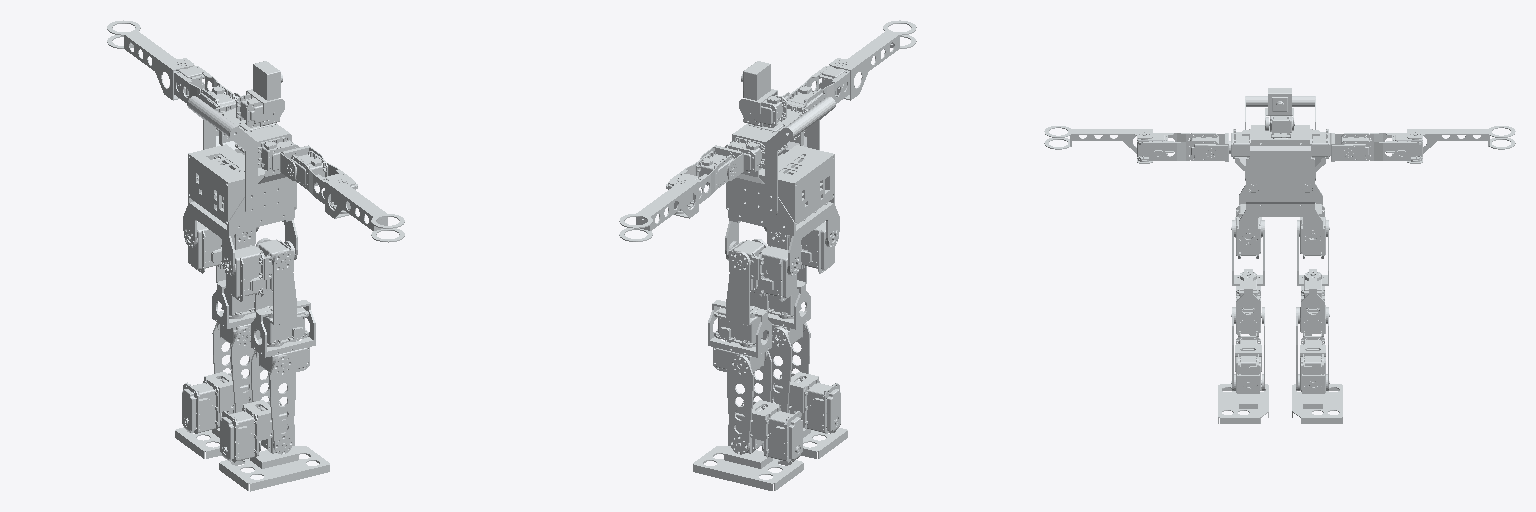
--- What the picture shows (computed from the rendered views, not written in the file) ---
Views: 3 orthographic renders of the robot side by side, from view 1: azimuth 30°, elevation 25°; view 2: azimuth 150°, elevation 25°; view 3: azimuth 270°, elevation 25°.
Model thmos_urdf with 26 links and 25 joints (20 revolute, 5 fixed), rooted at body, posed every joint at zero.
Links seen in each view (by area): view 1: body, R_leg_5_link, R_leg_2_link, L_leg_5_link, R_leg_1_link, R_leg_4_link, r_sole, R_arm_3_link, R_leg_3_link, L_arm_3_link, L_leg_4_link, R_arm_2_link (+9 smaller); view 2: body, L_leg_5_link, L_leg_2_link, R_leg_5_link, L_leg_4_link, L_leg_1_link, l_sole, L_arm_3_link, L_leg_3_link, R_arm_3_link, R_leg_4_link, R_arm_2_link (+8 smaller); view 3: body, L_arm_2_link, R_arm_2_link, R_leg_5_link, L_leg_5_link, L_arm_3_link, R_arm_3_link, r_sole, l_sole, R_leg_3_link, L_leg_3_link, head_link (+4 smaller).
Link boxes in pixels (<box>): body: <box>183,96,299,275</box>; R_leg_5_link: <box>220,400,294,462</box>; R_leg_2_link: <box>255,238,308,345</box>; L_leg_5_link: <box>182,372,249,433</box>; R_leg_1_link: <box>225,239,295,301</box>; R_leg_4_link: <box>251,350,295,454</box>; r_sole: <box>219,446,329,491</box>; R_arm_3_link: <box>325,176,404,242</box>; R_leg_3_link: <box>251,300,315,372</box>; L_arm_3_link: <box>107,20,193,100</box>; L_leg_4_link: <box>212,323,254,412</box>; R_arm_2_link: <box>289,151,357,210</box>; body: <box>722,97,839,275</box>; L_leg_5_link: <box>728,400,802,462</box>; L_leg_2_link: <box>714,239,767,345</box>; R_leg_5_link: <box>774,372,840,433</box>; L_leg_4_link: <box>727,351,771,454</box>; L_leg_1_link: <box>729,240,797,301</box>; l_sole: <box>693,446,803,490</box>; L_arm_3_link: <box>619,176,698,241</box>; L_leg_3_link: <box>708,300,771,372</box>; R_arm_3_link: <box>829,20,916,100</box>; R_leg_4_link: <box>768,323,810,412</box>; R_arm_2_link: <box>787,62,854,107</box>; body: <box>1229,96,1330,243</box>; L_arm_2_link: <box>1341,133,1422,160</box>; R_arm_2_link: <box>1137,133,1218,160</box>; R_leg_5_link: <box>1231,336,1261,393</box>; L_leg_5_link: <box>1300,336,1329,393</box>; L_arm_3_link: <box>1407,126,1515,163</box>; R_arm_3_link: <box>1044,126,1152,163</box>; r_sole: <box>1218,384,1268,423</box>; l_sole: <box>1292,384,1342,423</box>; R_leg_3_link: <box>1231,269,1261,336</box>; L_leg_3_link: <box>1300,269,1329,336</box>; head_link: <box>1265,88,1293,130</box>.
Bounding box of the posed robot: 0.1405 × 0.7664 × 0.5784 m (x, y, z).
21 mesh visuals loaded from 21 distinct referenced files (21 OBJ).

robot.urdf — thmos_urdf:
<?xml version="1.0" encoding="utf-8"?>
<robot name="thmos_urdf" version="1.0">

  <link name="body">
    <inertial>
      <origin xyz="0.063712 -0.00099792 0.019122" rpy="0.0 0.0 0.0"/>
      <mass value="1.3288"/>
      <inertia ixx="0.0012431" ixy="1.3371e-06" ixz="-1.2389e-05" iyy="0.00066197" iyz="-1.1205e-06" izz="0.0010861"/>
    </inertial>
    <visual>
      <origin xyz="0.0 0.0 0.0" rpy="0.0 0.0 0.0"/>
      <geometry>
        <mesh filename="../meshes/body.obj"/>
      </geometry>
      <material name="">
        <color rgba="0.89804 0.91765 0.92941 1.0"/>
      </material>
    </visual>
    <collision>
      <origin xyz="0.05384999848902248 -0.0012000016868114506 0.0035215429961681062" rpy="6.123233995736766e-17 1.3445140975416614e-14 -6.123233995736683e-17"/>
      <geometry>
        <box size="0.10769999846816107 0.1113000014424324 0.129935028374194"/>
      </geometry>
    </collision>
  </link>

  <link name="imu_frame">
    <inertial>
      <origin xyz="0.0 0.0 0.0" rpy="0.0 0.0 0.0"/>
      <mass value="1e-09"/>
      <inertia ixx="0.0" ixy="0.0" ixz="0.0" iyy="0.0" iyz="0.0" izz="0.0"/>
    </inertial>
  </link>
  <joint name="body_to_imu" type="fixed">
    <origin xyz="0.03 0.0 0.0" rpy="0.0 0.0 0.0"/>
    <axis xyz="0.0 0.0 1.0"/>
    <parent link="body"/>
    <child link="imu_frame"/>
  </joint>
  <link name="neck_link">
    <inertial>
      <origin xyz="0.000374754017638169 0.00792661238395012 0.0164902287503008" rpy="0.0 0.0 0.0"/>
      <mass value="0.124460960004064"/>
      <inertia ixx="2.8805042758389e-05" ixy="1.06141323333388e-06" ixz="9.02985231695641e-11" iyy="2.19026103636437e-05" iyz="4.01738564732065e-09" izz="3.53155714762973e-05"/>
    </inertial>
    <visual>
      <origin xyz="0.0 0.0 0.0" rpy="0.0 0.0 0.0"/>
      <geometry>
        <mesh filename="../meshes/neck.obj"/>
      </geometry>
      <material name="">
<color rgba="0.898039215686275 0.917647058823529 0.929411764705882 1.0"/>
      </material>
    </visual>
    <collision>
      <origin xyz="0.001675000414252283 0.010300001595169302 0.016450000111944973" rpy="1.5707963267948966 -1.5707963267948966 0.0"/>
      <geometry>
        <box size="0.01710000007413327 0.0118500006198883 0.01060000251978636"/>
      </geometry>
    </collision>
  </link>
  <joint name="neck" type="revolute">
    <origin xyz="0.0878 -0.0012 0.085854" rpy="0.0 0.0 1.5708"/>
    <axis xyz="0.0 0.0 1.0"/>
    <parent link="body"/>
    <child link="neck_link"/>
    <limit effort="3.0" lower="-3.14" upper="3.14" velocity="6.0"/>
    <dynamics damping="0.3" friction="0.83"/>
  </joint>
  <link name="head_link">
    <inertial>
      <origin xyz="0.00105902022003895 0.0355664089714035 -0.0241900224958814" rpy="0.0 0.0 0.0"/>
      <mass value="0.114036124076544"/>
      <inertia ixx="3.82925395568687e-05" ixy="-1.03991053654543e-06" ixz="-3.641539852221e-10" iyy="2.26332447272469e-05" iyz="-9.47293360670022e-11" izz="2.74630698086273e-05"/>
    </inertial>
    <visual>
      <origin xyz="0.0 0.0 0.0" rpy="0.0 0.0 0.0"/>
      <geometry>
        <mesh filename="../meshes/head.obj"/>
      </geometry>
      <material name="">
        <color rgba="0.898039215686275 0.917647058823529 0.929411764705882 1.0"/>
      </material>
    </visual>
    <collision>
      <origin xyz="0.021949610881768685 0.04505123227280408 -0.02424999896287918" rpy="1.5707963267948966 -0.0 2.944197080307375"/>
      <geometry>
        <box size="0.03714315125418157 0.04849999748468399 0.03189390843605308"/>
      </geometry>
    </collision>
  </link>
  <joint name="head" type="revolute">
    <origin xyz="-0.0265 -0.003 0.0172" rpy="1.5708 0.0 -1.5708"/>
    <axis xyz="0.0 0.0 1.0"/>
    <parent link="neck_link"/>
    <child link="head_link"/>
    <limit effort="3.0" lower="-3.14" upper="3.14" velocity="6.0"/>
    <dynamics damping="0.3" friction="0.83"/>
  </joint>
  <link name="camera">
    <inertial>
      <origin xyz="0.0 0.0 0.0" rpy="0.0 0.0 0.0"/>
      <mass value="1e-09"/>
      <inertia ixx="0.0" ixy="0.0" ixz="0.0" iyy="0.0" iyz="0.0" izz="0.0"/>
    </inertial>
  </link>
  <joint name="camera_frame" type="fixed">
    <origin xyz="0.0237 0.0395 -0.025" rpy="-1.5708 0.0 0.0"/>
    <axis xyz="0.0 0.0 0.0"/>
    <parent link="head_link"/>
    <child link="camera"/>
  </joint>
  <link name="camera_optical_frame">
    <inertial>
      <origin xyz="0.0 0.0 0.0" rpy="0.0 0.0 0.0"/>
      <mass value="1e-09"/>
      <inertia ixx="0.0" ixy="0.0" ixz="0.0" iyy="0.0" iyz="0.0" izz="0.0"/>
    </inertial>
  </link>
  <joint name="camera_optical_frame_frame" type="fixed">
    <origin xyz="0.0232 0.0395 -0.025" rpy="3.14159 -1.5708 0.0"/>
    <axis xyz="0.0 0.0 0.0"/>
    <parent link="head_link"/>
    <child link="camera_optical_frame"/>
  </joint>
  <link name="L_arm_1_link">
    <inertial>
      <origin xyz="-0.00270348856091474 -2.98303048928972e-14 0.00912222923452145" rpy="0.0 0.0 0.0"/>
      <mass value="0.0181607936880923"/>
      <inertia ixx="4.12173986238463e-06" ixy="-3.2877850320291e-21" ixz="-1.84209426151666e-21" iyy="7.89270004328203e-06" iyz="-2.93547863189118e-21" izz="6.9509203458564e-06"/>
    </inertial>
    <visual>
      <origin xyz="0.0 0.0 0.0" rpy="0.0 0.0 0.0"/>
      <geometry>
        <mesh filename="../meshes/L_arm_1.obj"/>
      </geometry>
      <material name="">
        <color rgba="0.898039215686275 0.917647058823529 0.929411764705882 1.0"/>
      </material>
    </visual>
    <collision>
      <origin xyz="-9.73594148203842e-19 0.0 0.01589999906718731" rpy="1.5707963267948968 -0.0 -1.5707963267948966"/>
      <geometry>
        <box size="0.03200000151991845 0.04149999842047691 0.046199999749660485"/>
      </geometry>
    </collision>
  </link>
  <joint name="L_arm_1" type="revolute">
    <origin xyz="0.0878 0.08445 0.059554" rpy="1.5708 0.0 -3.1416"/>
    <axis xyz="0.0 0.0 1.0"/>
    <parent link="body"/>
    <child link="L_arm_1_link"/>
    <limit effort="3.0" lower="-3.14" upper="3.14" velocity="6.0"/>
    <dynamics damping="0.3" friction="0.83"/>
  </joint>
  <link name="L_arm_2_link">
    <inertial>
      <origin xyz="-0.0555336258522437 0.000228650195428066 -0.0224177788260872" rpy="0.0 0.0 0.0"/>
      <mass value="0.257261302812499"/>
      <inertia ixx="4.50171126863418e-05" ixy="1.05764403250118e-06" ixz="-1.05764403250123e-06" iyy="7.00809162267162e-05" iyz="1.86757292836393e-10" izz="7.25001715326831e-05"/>
    </inertial>
    <visual>
      <origin xyz="0.0 0.0 0.0" rpy="0.0 0.0 0.0"/>
      <geometry>
        <mesh filename="../meshes/L_arm_2.obj"/>
      </geometry>
      <material name="">
        <color rgba="0.898039215686275 0.917647058823529 0.929411764705882 1.0"/>
      </material>
    </visual>
    <collision>
      <origin xyz="-0.054543880996390105 0.0017612372696255338 -0.0213372207657779" rpy="1.5627670809683334 -0.015294812101342672 1.5709191304515608"/>
      <geometry>
        <box size="0.02252645601540947 0.023383295844647285 0.023377372846498"/>
      </geometry>
    </collision>
  </link>
  <joint name="L_arm_2" type="revolute">
    <origin xyz="0.0237 0.0 0.02425" rpy="0.0 1.5708 0.0"/>
    <axis xyz="0.0 0.0 1.0"/>
    <parent link="L_arm_1_link"/>
    <child link="L_arm_2_link"/>
    <limit effort="3.0" lower="-3.14" upper="3.14" velocity="6.0"/>
    <dynamics damping="0.3" friction="0.83"/>
  </joint>
  <link name="L_arm_3_link">
    <inertial>
      <origin xyz="0.0610691517699158 0.0132650328153034 -0.0146476390287438" rpy="0.0 0.0 0.0"/>
      <mass value="0.0391883327866054"/>
      <inertia ixx="1.1531973600899e-05" ixy="-1.47448079661083e-06" ixz="-7.52413264450704e-06" iyy="6.36512327134345e-05" iyz="2.87923177830407e-08" izz="5.98055732184809e-05"/>
    </inertial>
    <visual>
      <origin xyz="0.0 0.0 0.0" rpy="0.0 0.0 0.0"/>
      <geometry>
        <mesh filename="../meshes/L_arm_3.obj"/>
      </geometry>
      <material name="">
        <color rgba="0.898039215686275 0.917647058823529 0.929411764705882 1.0"/>
      </material>
    </visual>
    <collision>
      <origin xyz="0.0747740109964431 0.011430920623277179 -0.023599999549333006" rpy="1.5707963267948966 -0.0 1.584225802435539"/>
      <geometry>
        <box size="0.0454910148430189 0.045999999041669085 0.17605944277074478"/>
      </geometry>
    </collision>
  </link>
  <joint name="L_arm_3" type="revolute">
    <origin xyz="-0.1091 0.0227 -0.0226" rpy="1.5708 0.0 -3.1416"/>
    <axis xyz="0.0 0.0 -1.0"/>
    <parent link="L_arm_2_link"/>
    <child link="L_arm_3_link"/>
    <limit effort="3.0" lower="-3.14" upper="3.14" velocity="6.0"/>
    <dynamics damping="0.3" friction="0.83"/>
  </joint>
  <link name="R_arm_1_link">
    <inertial>
      <origin xyz="-0.00270348856095659 -2.15036322082085e-14 -0.0118722292345103" rpy="0.0 0.0 0.0"/>
      <mass value="0.0181607936880923"/>
      <inertia ixx="4.12173986238461e-06" ixy="-6.73547515457905e-20" ixz="-3.34992478122145e-21" iyy="7.892700043282e-06" iyz="1.44907271888797e-21" izz="6.95092034585637e-06"/>
    </inertial>
    <visual>
      <origin xyz="0.0 0.0 0.0" rpy="0.0 0.0 0.0"/>
      <geometry>
        <mesh filename="../meshes/R_arm_1.obj"/>
      </geometry>
      <material name="">
        <color rgba="0.898039215686275 0.917647058823529 0.929411764705882 1.0"/>
      </material>
    </visual>
    <collision>
      <origin xyz="-2.327463805624001e-18 0.0 -0.018650000100024045" rpy="1.5707963267948968 -0.0 -1.5707963267948966"/>
      <geometry>
        <box size="0.032000001519918435 0.041500000050291426 0.046199999749660485"/>
      </geometry>
    </collision>
  </link>
  <joint name="R_arm_1" type="revolute">
    <origin xyz="0.0878 -0.08685 0.059554" rpy="1.5708 0.0 3.1416"/>
    <axis xyz="0.0 0.0 -1.0"/>
    <parent link="body"/>
    <child link="R_arm_1_link"/>
    <limit effort="3.0" lower="-3.14" upper="3.14" velocity="6.0"/>
    <dynamics damping="0.3" friction="0.83"/>
  </joint>
  <link name="R_arm_2_link">
    <inertial>
      <origin xyz="0.0555336256974389 0.000228648579194128 -0.0224177804428706" rpy="0.0 0.0 0.0"/>
      <mass value="0.257261343297452"/>
      <inertia ixx="4.5017126042755e-05" ixy="-1.05764222141383e-06" ixz="1.05764222141381e-06" iyy="7.00809285626232e-05" iyz="1.84550114679737e-10" izz="7.250018386859e-05"/>
    </inertial>
    <visual>
      <origin xyz="0.0 0.0 0.0" rpy="0.0 0.0 0.0"/>
      <geometry>
        <mesh filename="../meshes/R_arm_2.obj"/>
      </geometry>
      <material name="">
<color rgba="0.898039215686275 0.917647058823529 0.929411764705882 1.0"/>
      </material>
    </visual>
    <collision>
      <origin xyz="0.05459645903898113 0.00239333590524819 -0.021207436442534276" rpy="2.464064794050204 1.5638561054401396 2.452604630324749"/>
      <geometry>
        <box size="0.02210135916716282 0.022319626431698204 0.02365911610615555"/>
      </geometry>
    </collision>
  </link>
  <joint name="R_arm_2" type="revolute">
    <origin xyz="0.0237 0.0 -0.027" rpy="0.0 1.5708 0.0"/>
    <axis xyz="0.0 0.0 1.0"/>
    <parent link="R_arm_1_link"/>
    <child link="R_arm_2_link"/>
    <limit effort="3.0" lower="-3.14" upper="3.14" velocity="6.0"/>
    <dynamics damping="0.3" friction="0.83"/>
  </joint>
  <link name="R_arm_3_link">
    <inertial>
      <origin xyz="-0.0610691517699113 0.0132650328152753 -0.0146476390287803" rpy="0.0 0.0 0.0"/>
      <mass value="0.0391883327866054"/>
      <inertia ixx="1.15319736008989e-05" ixy="1.47448079661004e-06" ixz="7.52413264450704e-06" iyy="6.36512327134348e-05" iyz="2.87923177831431e-08" izz="5.98055732184812e-05"/>
    </inertial>
    <visual>
      <origin xyz="0.0 0.0 0.0" rpy="0.0 0.0 0.0"/>
      <geometry>
        <mesh filename="../meshes/R_arm_3.obj"/>
      </geometry>
      <material name="">
        <color rgba="0.898039215686275 0.917647058823529 0.929411764705882 1.0"/>
      </material>
    </visual>
    <collision>
      <origin xyz="-0.0747740109964431 0.011430920623277179 -0.023599999549333006" rpy="1.5707963267948966 -0.0 1.5573668511542542"/>
      <geometry>
        <box size="0.045491014843018894 0.04599999904166909 0.17605944277074478"/>
      </geometry>
    </collision>
  </link>
  <joint name="R_arm_3" type="revolute">
    <origin xyz="0.1091 0.0227 -0.0226" rpy="1.5708 0.0 -3.1416"/>
    <axis xyz="0.0 0.0 -1.0"/>
    <parent link="R_arm_2_link"/>
    <child link="R_arm_3_link"/>
    <limit effort="3.0" lower="-3.14" upper="3.14" velocity="6.0"/>
    <dynamics damping="0.3" friction="0.83"/>
  </joint>
  <link name="R_leg_1_link">
    <inertial>
      <origin xyz="0.000242896794929587 -0.0148810546825795 -0.0515497640478449" rpy="0.0 0.0 0.0"/>
      <mass value="0.451493328507052"/>
      <inertia ixx="0.000180898932244134" ixy="-2.38369037516758e-06" ixz="6.24170041698943e-09" iyy="0.000109860138568046" iyz="-2.84619940693069e-06" izz="0.000172275371244265"/>
    </inertial>
    <visual>
      <origin xyz="0.0 0.0 0.0" rpy="0.0 0.0 0.0"/>
      <geometry>
        <mesh filename="../meshes/R_leg_1.obj"/>
      </geometry>
      <material name="">
        <color rgba="0.898039215686275 0.917647058823529 0.929411764705882 1.0"/>
      </material>
    </visual>
    <collision>
      <origin xyz="0.003100000321865076 -0.01805000007152557 -0.02045000099539752" rpy="6.123233995736766e-17 -1.2246467991473532e-16 -6.123233995736767e-17"/>
      <geometry>
        <box size="0.03000000074505806 0.01509999930858612 0.01590000165700921"/>
      </geometry>
    </collision>
  </link>
  <joint name="R_leg_1" type="revolute">
    <origin xyz="-0.0018 -0.05385 -0.093946" rpy="1.5708 0.0 -1.5708"/>
    <axis xyz="0.0 0.0 1.0"/>
    <parent link="body"/>
    <child link="R_leg_1_link"/>
    <limit effort="7.0" lower="-3.14" upper="3.14" velocity="8.0"/>
    <dynamics damping="0.66" friction="1.42"/>
  </joint>
  <link name="R_leg_2_link">
    <inertial>
      <origin xyz="0.0122194621517914 -0.094313655848584 -0.0282436770621193" rpy="0.0 0.0 0.0"/>
      <mass value="0.255869549056094"/>
      <inertia ixx="9.82695608187641e-05" ixy="4.67521713434423e-06" ixz="-1.21264879671056e-10" iyy="7.3171187256599e-05" iyz="2.17873962694984e-09" izz="0.000138459962189222"/>
    </inertial>
    <visual>
      <origin xyz="0.0 0.0 0.0" rpy="0.0 0.0 0.0"/>
      <geometry>
        <mesh filename="../meshes/R_leg_2.obj"/>
      </geometry>
      <material name="">
        <color rgba="0.898039215686275 0.917647058823529 0.929411764705882 1.0"/>
      </material>
    </visual>
    <collision>
      <origin xyz="0.016046630620604328 -0.058285391411157864 -0.02805000019725412" rpy="-1.6001995699219158 1.5707963267948966 0.0"/>
      <geometry>
        <box size="0.05310000036843121 0.03507315459005164 0.04545180379959868"/>
      </geometry>
    </collision>
  </link>
  <joint name="R_leg_2" type="revolute">
    <origin xyz="0.0281 0.0002095 -0.0739" rpy="0.0 1.5708 0.0"/>
    <axis xyz="0.0 0.0 1.0"/>
    <parent link="R_leg_1_link"/>
    <child link="R_leg_2_link"/>
    <limit effort="7.0" lower="-3.14" upper="3.14" velocity="8.0"/>
    <dynamics damping="0.66" friction="1.42"/>
  </joint>
  <link name="R_leg_3_link">
    <inertial>
      <origin xyz="0.000341018557630739 -0.0148870721262969 0.0660225553835301" rpy="0.0 0.0 0.0"/>
      <mass value="0.258989867994287"/>
      <inertia ixx="0.000135250232483748" ixy="-2.37925510522261e-06" ixz="1.20373969145859e-12" iyy="6.84711260250314e-05" iyz="3.73535413122895e-07" izz="0.00014407344617747"/>
    </inertial>
    <visual>
      <origin xyz="0.0 0.0 0.0" rpy="0.0 0.0 0.0"/>
      <geometry>
        <mesh filename="../meshes/R_leg_3.obj"/>
      </geometry>
      <material name="">
        <color rgba="0.898039215686275 0.917647058823529 0.929411764705882 1.0"/>
      </material>
    </visual>
    <collision>
      <origin xyz="0.0030000004917383164 -0.015499999746680263 0.0481500014429912" rpy="3.141592653589793 -0.0 3.141592653589793"/>
      <geometry>
        <box size="0.02400000074505809 0.05599999991059307 0.04330000285990536"/>
      </geometry>
    </collision>
  </link>
  <joint name="R_leg_3" type="revolute">
    <origin xyz="0.0 -0.0814 -0.028" rpy="1.5708 -1.5708 0.0"/>
    <axis xyz="0.0 0.0 -1.0"/>
    <parent link="R_leg_2_link"/>
    <child link="R_leg_3_link"/>
    <limit effort="7.0" lower="-3.14" upper="3.14" velocity="8.0"/>
    <dynamics damping="0.66" friction="1.42"/>
  </joint>
  <link name="R_leg_4_link">
    <inertial>
      <origin xyz="0.000633785907184686 -0.0558181596705163 -0.0303382676064725" rpy="0.0 0.0 0.0"/>
      <mass value="0.0679066960076005"/>
      <inertia ixx="9.59296971630492e-05" ixy="9.94737782293033e-07" ixz="3.79898249863386e-11" iyy="8.33343928808516e-06" iyz="-3.34580192882797e-09" izz="0.000104160518535864"/>
    </inertial>
    <visual>
      <origin xyz="0.0 0.0 0.0" rpy="0.0 0.0 0.0"/>
      <geometry>
        <mesh filename="../meshes/R_leg_4.obj"/>
      </geometry>
      <material name="">
        <color rgba="0.898039215686275 0.917647058823529 0.929411764705882 1.0"/>
      </material>
    </visual>
    <collision>
      <origin xyz="-0.0 -0.04 -0.045" rpy="0 0 0"/>
      <geometry>
        <box size="0.02 0.08 0.005"/>
      </geometry>
    </collision>
  </link>
  <joint name="R_leg_4" type="revolute">
    <origin xyz="0.028 0.0 0.0747" rpy="-1.5708 0.0 -1.5708"/>
    <axis xyz="0.0 0.0 1.0"/>
    <parent link="R_leg_3_link"/>
    <child link="R_leg_4_link"/>
    <limit effort="7.0" lower="-3.14" upper="0.8" velocity="8.0"/>
    <dynamics damping="0.66" friction="1.42"/>
  </joint>
  <link name="R_leg_5_link">
    <inertial>
      <origin xyz="-0.0282617418943693 0.0165730398465845 -0.0277523989281278" rpy="0.0 0.0 0.0"/>
      <mass value="0.46512114910712"/>
      <inertia ixx="0.000183362451913054" ixy="2.4241321870988e-06" ixz="1.44282223201968e-08" iyy="0.000120053010159165" iyz="2.38710633149706e-06" izz="0.00018563013019653"/>
    </inertial>
    <visual>
      <origin xyz="0.0 0.0 0.0" rpy="0.0 0.0 0.0"/>
      <geometry>
        <mesh filename="../meshes/R_leg_5.obj"/>
      </geometry>
      <material name="">
        <color rgba="0.898039215686275 0.917647058823529 0.929411764705882 1.0"/>
      </material>
    </visual>
    <collision>
      <origin xyz="-0.02 0.0 -0.027" rpy="0.0 0.0 0.0"/>
      <geometry>
        <box size="0.08200000151991844 0.035 0.025"/>
      </geometry>
    </collision>
  </link>
  <joint name="R_leg_5" type="revolute">
    <origin xyz="0.0013624 -0.11999 0.0" rpy="0.0 0.0 0.0"/>
    <axis xyz="0.0 0.0 1.0"/>
    <parent link="R_leg_4_link"/>
    <child link="R_leg_5_link"/>
    <limit effort="7.0" lower="-1.57" upper="1.57" velocity="8.0"/>
    <dynamics damping="0.66" friction="1.42"/>
  </joint>
  <link name="R_leg_6_link">
    <inertial>
      <origin xyz="-7.37902794423206e-13 -0.0185042027856624 0.0278363803698617" rpy="0.0 0.0 0.0"/>
      <mass value="0.0377536385423544"/>
      <inertia ixx="2.3934318153837e-05" ixy="3.46864511941908e-21" ixz="-5.66337063104483e-20" iyy="2.072219654816e-05" iyz="-3.59341385123066e-07" izz="9.35507291262461e-06"/>
    </inertial>
    <visual>
      <origin xyz="2.8571235090393715e-18 -0.029 0.02419999986886978" rpy="3.141592653589793 -0.0 -6.123233995736766e-17"/>
      <geometry>
        <box size="0.03200000151991844 0.01 0.057999998331069946"/>
      </geometry>
      <material name="">
        <color rgba="0.898039215686275 0.917647058823529 0.929411764705882 1.0"/>
      </material>
    </visual>
    <collision>
      <origin xyz="2.8571235090393715e-18 -0.029 0.02419999986886978" rpy="3.141592653589793 -0.0 -6.123233995736766e-17"/>
      <geometry>
        <box size="0.03200000151991844 0.01 0.057999998331069946"/>
      </geometry>
    </collision>
  </link>
<joint name="R_leg_6" type="revolute">
    <origin xyz="-0.0235 0.0 -0.0279" rpy="0.0 1.5708 0.0"/>
    <axis xyz="0.0 0.0 1.0"/>
    <parent link="R_leg_5_link"/>
    <child link="R_leg_6_link"/>
    <limit effort="7.0" lower="-1.57" upper="1.57" velocity="8.0"/>
    <dynamics damping="0.66" friction="1.42"/>
  </joint>
  <link name="r_sole">
    <inertial>
      <origin xyz="-0.00533307371632902 -0.00839837846157496 0.00906222619819685" rpy="0.0 0.0 0.0"/>
      <mass value="0.0514108605648368"/>
      <inertia ixx="3.96695498840741e-05" ixy="2.92964387704441e-06" ixz="-3.21388348534922e-07" iyy="8.16196946411252e-05" iyz="-2.16470053766801e-07" izz="0.000120318842861491"/>
    </inertial>
    <visual>
      <origin xyz="0.0 0.0 0.0" rpy="0.0 0.0 0.0"/>
      <geometry>
        <mesh filename="../meshes/r_sole.obj"/>
      </geometry>
      <material name="">
        <color rgba="0.898039215686275 0.917647058823529 0.929411764705882 1.0"/>
      </material>
    </visual>
    <collision>
      <origin xyz="-0.0040000006556510865 -0.007500000298023223 0.005749999999934502" rpy="1.2246467991473532e-16 1.5707963267948966 0.0"/>
      <geometry>
        <box size="0.011500000044834485 0.08299999684095384 0.12999999523162842"/>
      </geometry>
    </collision>
  </link>
  <joint name="r_sole" type="fixed">
    <origin xyz="0.0 -0.0455 0.0242" rpy="-1.5708 -1.5708 0.0"/>
    <axis xyz="0.0 0.0 1.0"/>
    <parent link="R_leg_6_link"/>
    <child link="r_sole"/>
  </joint>
  <link name="L_leg_1_link">
    <inertial>
      <origin xyz="-0.000245362191428788 -0.0150511473487731 -0.0510132876308485" rpy="0.0 0.0 0.0"/>
      <mass value="0.446391012900485"/>
      <inertia ixx="0.000180559948679216" ixy="2.37481983527781e-06" ixz="6.24170041699285e-09" iyy="0.000109521155003129" iyz="-2.84620662551416e-06" izz="0.000171616568584619"/>
    </inertial>
    <visual>
      <origin xyz="0.0 0.0 0.0" rpy="0.0 0.0 0.0"/>
      <geometry>
        <mesh filename="../meshes/L_leg_1.obj"/>
      </geometry>
      <material name="">
        <color rgba="0.898039215686275 0.917647058823529 0.929411764705882 1.0"/>
      </material>
    </visual>
    <collision>
      <origin xyz="-0.003100000321865083 -0.018050000071525574 -0.02045000099539754" rpy="3.141592653589793 -0.0 -6.123233995736766e-17"/>
      <geometry>
        <box size="0.03000000074505807 0.01509999930858612 0.01590000165700919"/>
      </geometry>
    </collision>
  </link>
  <joint name="L_leg_1" type="revolute">
    <origin xyz="-0.0018 0.05115 -0.093946" rpy="1.5708 0.0 -1.5708"/>
    <axis xyz="0.0 0.0 1.0"/>
    <parent link="body"/>
    <child link="L_leg_1_link"/>
    <limit effort="7.0" lower="-3.14" upper="3.14" velocity="8.0"/>
    <dynamics damping="0.66" friction="1.42"/>
  </joint>
  <link name="L_leg_2_link">
    <inertial>
      <origin xyz="0.0122194621517911 -0.0943136558485842 0.0282446604041767" rpy="0.0 0.0 0.0"/>
      <mass value="0.255869549056095"/>
      <inertia ixx="9.82695608187643e-05" ixy="4.67521713434429e-06" ixz="1.14046296200095e-10" iyy="7.31711872565992e-05" iyz="-2.17633214789903e-09" izz="0.000138459962189222"/>
    </inertial>
    <visual>
      <origin xyz="0.0 0.0 0.0" rpy="0.0 0.0 0.0"/>
      <geometry>
        <mesh filename="../meshes/L_leg_2.obj"/>
      </geometry>
      <material name="">
        <color rgba="0.898039215686275 0.917647058823529 0.929411764705882 1.0"/>
      </material>
    </visual>
    <collision>
      <origin xyz="0.016046630620604328 -0.05828539141115786 0.02805000019725412" rpy="-1.6001995699219158 1.5707963267948966 0.0"/>
      <geometry>
        <box size="0.05310000036843121 0.035073154590051645 0.0454518037995987"/>
      </geometry>
    </collision>
  </link>
  <joint name="L_leg_2" type="revolute">
    <origin xyz="-0.0281 0.0002095 -0.0739" rpy="0.0 1.5708 0.0"/>
    <axis xyz="0.0 0.0 -1.0"/>
    <parent link="L_leg_1_link"/>
    <child link="L_leg_2_link"/>
    <limit effort="7.0" lower="-3.14" upper="3.14" velocity="8.0"/>
    <dynamics damping="0.66" friction="1.42"/>
  </joint>
  <link name="L_leg_3_link">
    <inertial>
      <origin xyz="-0.000341018557628983 -0.0148870721262879 0.0660225566076256" rpy="0.0 0.0 0.0"/>
      <mass value="0.258989867994287"/>
      <inertia ixx="0.000135250232483748" ixy="2.37925510522271e-06" ixz="1.2037396792554e-12" iyy="6.84711260250314e-05" iyz="3.73528194540519e-07" izz="0.00014407344617747"/>
    </inertial>
    <visual>
      <origin xyz="0.0 0.0 0.0" rpy="0.0 0.0 0.0"/>
      <geometry>
        <mesh filename="../meshes/L_leg_3.obj"/>
      </geometry>
      <material name="">
        <color rgba="0.898039215686275 0.917647058823529 0.929411764705882 1.0"/>
      </material>
    </visual>
    <collision>
      <origin xyz="-0.0030000004917383224 -0.015499999746680263 0.0481500014429912" rpy="3.141592653589793 -0.0 3.141592653589793"/>
      <geometry>
        <box size="0.02400000074505809 0.05599999991059306 0.04330000285990536"/>
      </geometry>
    </collision>
  </link>
  <joint name="L_leg_3" type="revolute">
    <origin xyz="0.0 -0.0814 0.028" rpy="1.5708 -1.5708 0.0"/>
    <axis xyz="0.0 0.0 -1.0"/>
    <parent link="L_leg_2_link"/>
    <child link="L_leg_3_link"/>
    <limit effort="7.0" lower="-3.14" upper="3.14" velocity="8.0"/>
    <dynamics damping="0.66" friction="1.42"/>
  </joint>
  <link name="L_leg_4_link">
    <inertial>
      <origin xyz="-0.000633785905071904 -0.0558181596640658 -0.0303382676066239" rpy="0.0 0.0 0.0"/>
      <mass value="0.0679066960076005"/>
      <inertia ixx="9.59296971630492e-05" ixy="-9.94737782295072e-07" ixz="-3.79898249854746e-11" iyy="8.33343928808522e-06" iyz="-3.34580192855207e-09" izz="0.000104160518535864"/>
    </inertial>
    <visual>
      <origin xyz="0.0 0.0 0.0" rpy="0.0 0.0 0.0"/>
      <geometry>
        <mesh filename="../meshes/L_leg_4.obj"/>
      </geometry>
      <material name="">
        <color rgba="0.898039215686275 0.917647058823529 0.929411764705882 1.0"/>
      </material>
    </visual>
    <collision>
      <origin xyz="-0.0 -0.04 -0.045" rpy="0 0 0"/>
      <geometry>
        <box size="0.02 0.08 0.005"/>
      </geometry>
    </collision>
  </link>
  <joint name="L_leg_4" type="revolute">
    <origin xyz="-0.028 0.0 0.0747" rpy="-1.5708 0.0 1.5708"/>
    <axis xyz="0.0 0.0 1.0"/>
    <parent link="L_leg_3_link"/>
    <child link="L_leg_4_link"/>
    <limit effort="7.0" lower="-0.8" upper="3.14" velocity="8.0"/>
    <dynamics damping="0.66" friction="1.42"/>
  </joint>
  <link name="L_leg_5_link">
    <inertial>
      <origin xyz="0.028261737172733 0.0165730438182495 -0.0277523947860534" rpy="0.0 0.0 0.0"/>
      <mass value="0.465121268031797"/>
      <inertia ixx="0.000183362498112273" ixy="-2.42413431860746e-06" ixz="-1.4422230534791e-08" iyy="0.000120053046528023" iyz="2.38711645911282e-06" izz="0.000185630144557586"/>
    </inertial>
    <visual>
      <origin xyz="0.0 0.0 0.0" rpy="0.0 0.0 0.0"/>
      <geometry>
        <mesh filename="../meshes/L_leg_5.obj"/>
      </geometry>
      <material name="">
        <color rgba="0.898039215686275 0.917647058823529 0.929411764705882 1.0"/>
      </material>
    </visual>
    <collision>
      <origin xyz="0.02 0.0 -0.027" rpy="0.0 0.0 0.0"/>
      <geometry>
        <box size="0.08200000151991844 0.035 0.025"/>
      </geometry>
    </collision>
  </link>
  <joint name="L_leg_5" type="revolute">
    <origin xyz="-0.0013624 -0.11999 0.0" rpy="0.0 0.0 0.0"/>
    <axis xyz="0.0 0.0 1.0"/>
    <parent link="L_leg_4_link"/>
    <child link="L_leg_5_link"/>
    <limit effort="7.0" lower="-1.57" upper="1.57" velocity="8.0"/>
    <dynamics damping="0.66" friction="1.42"/>
  </joint>
  <link name="L_leg_6_link">
    <inertial>
      <origin xyz="-2.9739405382756e-13 -0.0185042027862403 -0.0278363803720922" rpy="0.0 0.0 0.0"/>
      <mass value="0.0377536385423544"/>
      <inertia ixx="2.3934318153837e-05" ixy="-2.4208018318729e-20" ixz="1.22627561245203e-19" iyy="2.072219654816e-05" iyz="3.59341385122398e-07" izz="9.35507291262458e-06"/>
    </inertial>
    <visual>
      <origin xyz="2.8571235090393715e-18 -0.029 -0.02419999986886978" rpy="3.141592653589793 -0.0 -6.123233995736766e-17"/>
      <geometry>
        <box size="0.03200000151991844 0.01 0.057999998331069946"/>
      </geometry>
      <material name="">
        <color rgba="0.898039215686275 0.917647058823529 0.929411764705882 1.0"/>
      </material>
    </visual>
    <collision>
      <origin xyz="2.8571235090393715e-18 -0.029 -0.02419999986886978" rpy="3.141592653589793 -0.0 -6.123233995736766e-17"/>
      <geometry>
        <box size="0.03200000151991844 0.01 0.057999998331069946"/>
      </geometry>
    </collision>
  </link>
  <joint name="L_leg_6" type="revolute">
    <origin xyz="0.0235 0.0 -0.0279" rpy="0.0 1.5708 0.0"/>
    <axis xyz="0.0 0.0 -1.0"/>
    <parent link="L_leg_5_link"/>
    <child link="L_leg_6_link"/>
    <limit effort="7.0" lower="-3.14" upper="3.14" velocity="8.0"/>
    <dynamics damping="0.66" friction="1.42"/>
  </joint>

  <link name="l_sole">
    <inertial>
      <origin xyz="-0.00533307371405239 0.00839837846181375 0.0090622261980815" rpy="0.0 0.0 0.0"/>
      <mass value="0.051410860564837"/>
      <inertia ixx="3.96695498840741e-05" ixy="-2.92964387704452e-06" ixz="-3.21388348534851e-07" iyy="8.16196946411257e-05" iyz="2.16470053766815e-07" izz="0.000120318842861491"/>
    </inertial>
    <visual>
      <origin xyz="0.0 0.0 0.0" rpy="0.0 0.0 0.0"/>
      <geometry>
        <mesh filename="../meshes/l_sole.obj"/>
      </geometry>
      <material name="">
        <color rgba="0.898039215686275 0.917647058823529 0.929411764705882 1.0"/>
      </material>
    </visual>
    <collision>
      <origin xyz="-0.004000000655651092 0.007500000298023225 0.005749999999876826" rpy="1.2246467991473532e-16 1.5707963267948966 0.0"/>
      <geometry>
        <box size="0.011500000044949835 0.08299999684095383 0.12999999523162842"/>
      </geometry>
    </collision>
  </link>
  <joint name="l_sole" type="fixed">
    <origin xyz="0.0 -0.0455 -0.0242" rpy="-1.5708 1.5708 0.0"/>
    <axis xyz="0.0 0.0 1.0"/>
    <parent link="L_leg_6_link"/>
    <child link="l_sole"/>
  </joint>
</robot>
